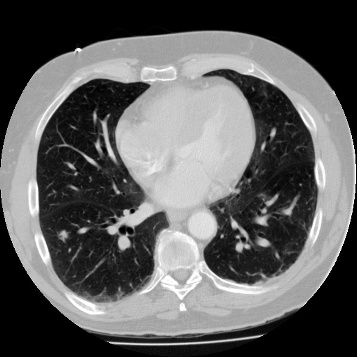PN: (60, 230, 68, 238)
